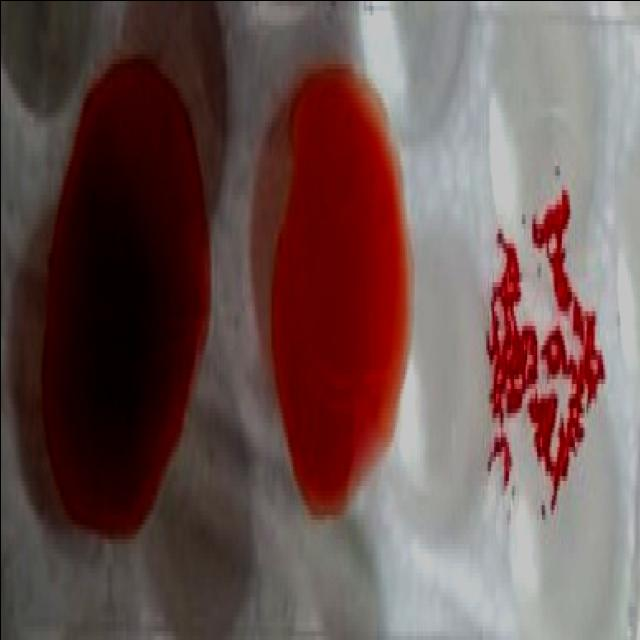D: (477, 138, 612, 569)
